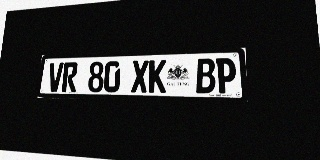0: (103, 61, 121, 92)
8: (88, 61, 105, 92)
B: (196, 58, 216, 93)
K: (148, 60, 166, 93)
P: (216, 58, 237, 93)
R: (61, 62, 78, 92)
V: (47, 62, 64, 92)
X: (131, 60, 149, 93)
